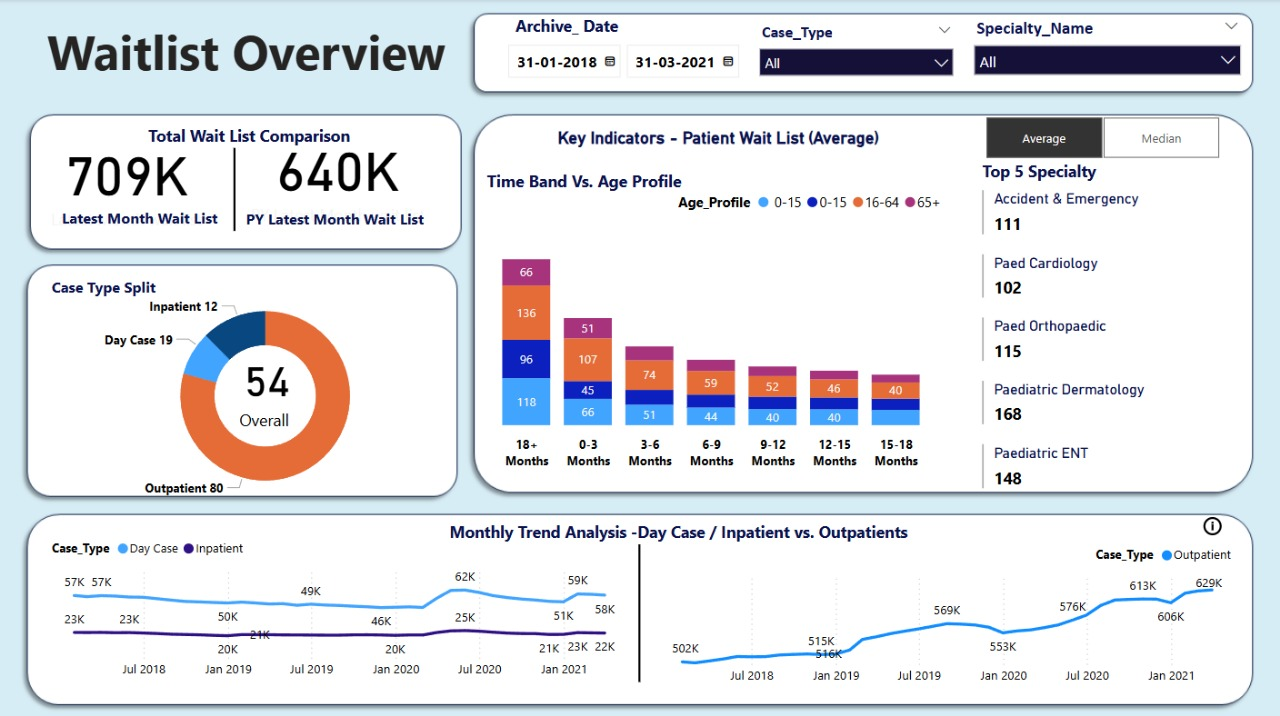

Layout of this report page (visuals, bound fields, positions):
{"tool":"powerbi","page":{"name":"Summary","canvas":[1280,720],"ordinal":0},"visuals":[{"type":"card","fields":{"Values":["All_Data.Latest Month wait list"]},"box":[30.8,125,191.9,112.5],"z":0},{"type":"card","fields":{"Values":["All_Data.PY Latest Month wait list"]},"box":[233.3,120.2,207.3,112.5],"z":1000},{"type":"slicer","fields":{"Values":["Calculation Method.Cal Method"]},"box":[958.4,111.2,282.4,54.4],"z":2000},{"type":"donutChart","title":"Case Type Split ","fields":{"Category":["All_Data.Case_Type"],"Y":["All_Data.Avg/Med wait list"]},"box":[65.8,280.2,398.1,232.5],"z":3000},{"type":"columnChart","title":"Time Band Vc Age Profile ","fields":{"Y":["All_Data.Avg/Med wait list"],"Series":["All_Data.Age_Profile"],"Category":["All_Data.Time_Bands"]},"box":[463.7,182.6,485,293.8],"z":4000},{"type":"multiRowCard","title":"Top 5 Specialty ","fields":{"Values":["All_Data.Specialty_Name","All_Data.Avg/Med wait list"]},"box":[975.4,186,273.3,351.6],"z":5000},{"type":"card","fields":{"Values":["All_Data.NODataLeft"]},"box":[130.3,548.3,369.5,111.3],"z":6000},{"type":"lineChart","title":"Monthly Trend Analysis - Day  Case ","fields":{"Category":["All_Data.Archive_Date"],"Y":["Sum(All_Data.Total)"],"Series":["All_Data.Case_Type"]},"box":[41.1,523.3,597.5,170],"z":7000},{"type":"card","fields":{"Values":["All_Data.NoDataRIght"]},"box":[761.5,548.3,369.5,111.3],"z":8000},{"type":"lineChart","fields":{"Category":["All_Data.Archive_Date"],"Y":["Sum(All_Data.Total)"],"Series":["All_Data.Case_Type"]},"box":[647.6,529.5,596.9,169.4],"z":9000},{"type":"slicer","fields":{"Values":["All_Data.Archive_Date"]},"box":[494.5,35.3,266.5,56.7],"z":10000},{"type":"slicer","fields":{"Values":["All_Data.Case_Type"]},"box":[747.5,18.3,214.4,88.5],"z":11000},{"type":"slicer","fields":{"Values":["All_Data.Specialty_Name"]},"box":[961.8,12.6,287,83.9],"z":12000},{"type":"textbox","box":[42,13.6,410.6,156.5],"z":13000},{"type":"card","fields":{"Values":["All_Data.Avg/Med wait list"]},"box":[204.2,333.5,123.6,111.2],"z":14000},{"type":"shape","box":[92.4,148.6,284.2,82.9],"z":15000},{"type":"shape","box":[496.1,544.5,285,137.5],"z":16000},{"type":"textbox","box":[143.3,120.2,220.3,36.7],"z":17000},{"type":"textbox","box":[46.5,272.2,259.7,32.9],"z":18000},{"type":"textbox","box":[443.6,515.8,492.5,57.5],"z":19000},{"type":"textbox","box":[480.8,165.2,249.9,50.9],"z":20000},{"type":"textbox","box":[975.9,155.1,157.5,35.5],"z":21000},{"type":"card","fields":{"Values":["All_Data.Dynamic Title"]},"box":[527,98.9,379,80.5],"z":22000},{"type":"textbox","box":[56.9,186.5,190.7,50.9],"z":23000},{"type":"textbox","box":[240.4,204.3,220.3,35.5],"z":24000},{"type":"actionButton","box":[1196.6,512.7,72.6,27.2],"z":25000},{"type":"textbox","box":[509.3,10.3,164.5,42],"z":26000}]}

Visuals, with their boxes in screenshot pixels (x1, y1, x2, y2), scaled from the page's 1280x720 canvas onto the 1280x716 screenshot:
card - All_Data.Latest Month wait list: bbox=(31, 124, 223, 236)
card - All_Data.PY Latest Month wait list: bbox=(233, 120, 441, 231)
slicer - Calculation Method.Cal Method: bbox=(958, 111, 1241, 165)
"Case Type Split " donutChart: bbox=(66, 279, 464, 510)
"Time Band Vc Age Profile " columnChart: bbox=(464, 182, 949, 474)
"Top 5 Specialty " multiRowCard: bbox=(975, 185, 1249, 535)
card - All_Data.NODataLeft: bbox=(130, 545, 500, 656)
"Monthly Trend Analysis - Day  Case " lineChart: bbox=(41, 520, 639, 689)
card - All_Data.NoDataRIght: bbox=(762, 545, 1131, 656)
lineChart - All_Data.Archive_Date x Sum(All_Data.Total): bbox=(648, 527, 1244, 695)
slicer - All_Data.Archive_Date: bbox=(494, 35, 761, 91)
slicer - All_Data.Case_Type: bbox=(748, 18, 962, 106)
slicer - All_Data.Specialty_Name: bbox=(962, 13, 1249, 96)
textbox: bbox=(42, 14, 453, 169)
card - All_Data.Avg/Med wait list: bbox=(204, 332, 328, 442)
shape: bbox=(92, 148, 377, 230)
shape: bbox=(496, 541, 781, 678)
textbox: bbox=(143, 120, 364, 156)
textbox: bbox=(46, 271, 306, 303)
textbox: bbox=(444, 513, 936, 570)
textbox: bbox=(481, 164, 731, 215)
textbox: bbox=(976, 154, 1133, 190)
card - All_Data.Dynamic Title: bbox=(527, 98, 906, 178)
textbox: bbox=(57, 185, 248, 236)
textbox: bbox=(240, 203, 461, 238)
actionButton: bbox=(1197, 510, 1269, 537)
textbox: bbox=(509, 10, 674, 52)
